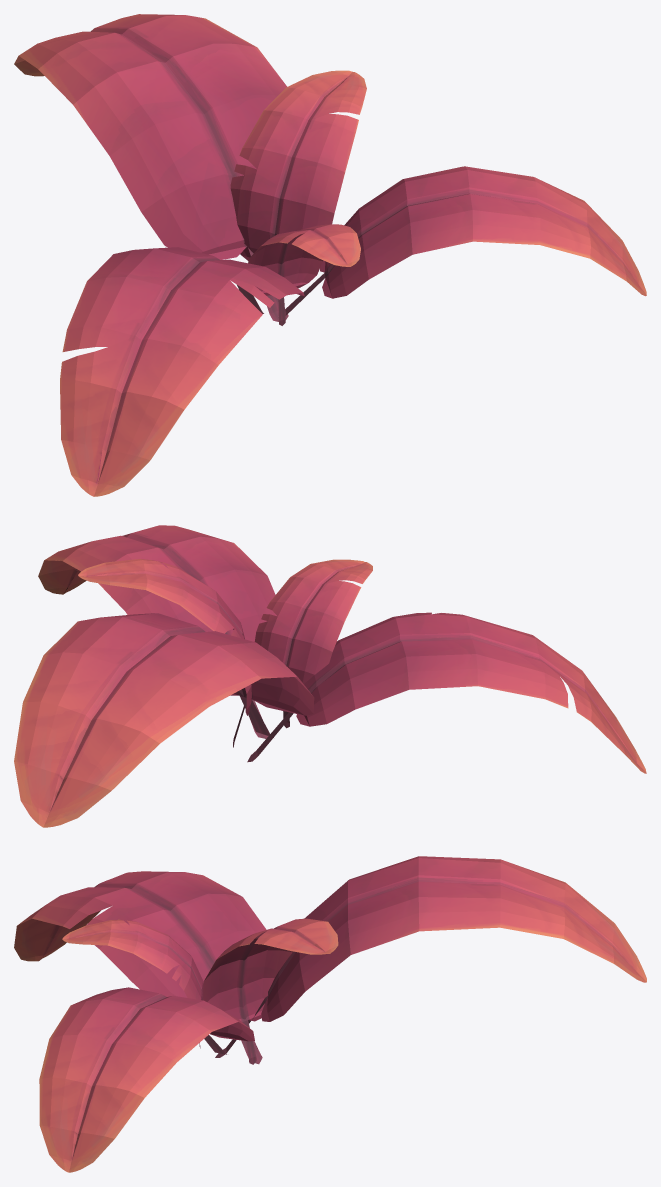
Rendered from plantB.glb.
3 renders of one model, top to bottom at view 1: azimuth 30°, elevation 25°; view 2: azimuth 150°, elevation 25°; view 3: azimuth 270°, elevation 25°, orthographic. The views are drawn at different scales.
Parts seen in each view (by area): view 1: plantB; view 2: plantB; view 3: plantB.
Boxes of the visible parts, x1=… form: plantB: x1=14, y1=14, x2=646, y2=496; plantB: x1=14, y1=525, x2=646, y2=827; plantB: x1=14, y1=856, x2=646, y2=1172.
Bounding box in the file's own units: 1.27 × 0.4699 × 1.27.
1 material, 1 textured.
